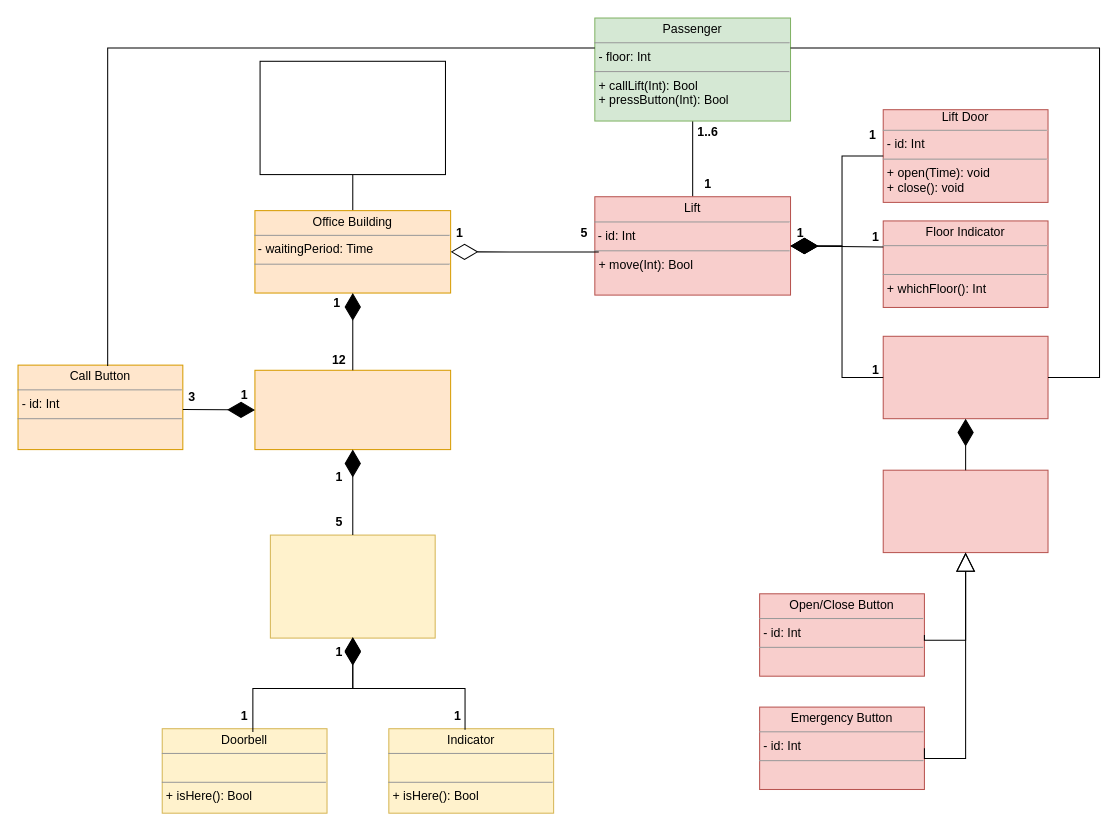
Image size: 1119x831. Some labels were removed from this diagram. The box of each missing label's shape, as (x1, y1, x2, y2) in pixels:
Button - id: Int: (882, 469, 1048, 553)
Clock + createAPassenger(): Time + From(): Time + To(): Time: (259, 60, 445, 175)
Control Panel: (882, 335, 1048, 419)
Floor - id: Int: (254, 369, 451, 450)
Gate - id: Int + open(Time): void + close(): void: (269, 534, 435, 638)
